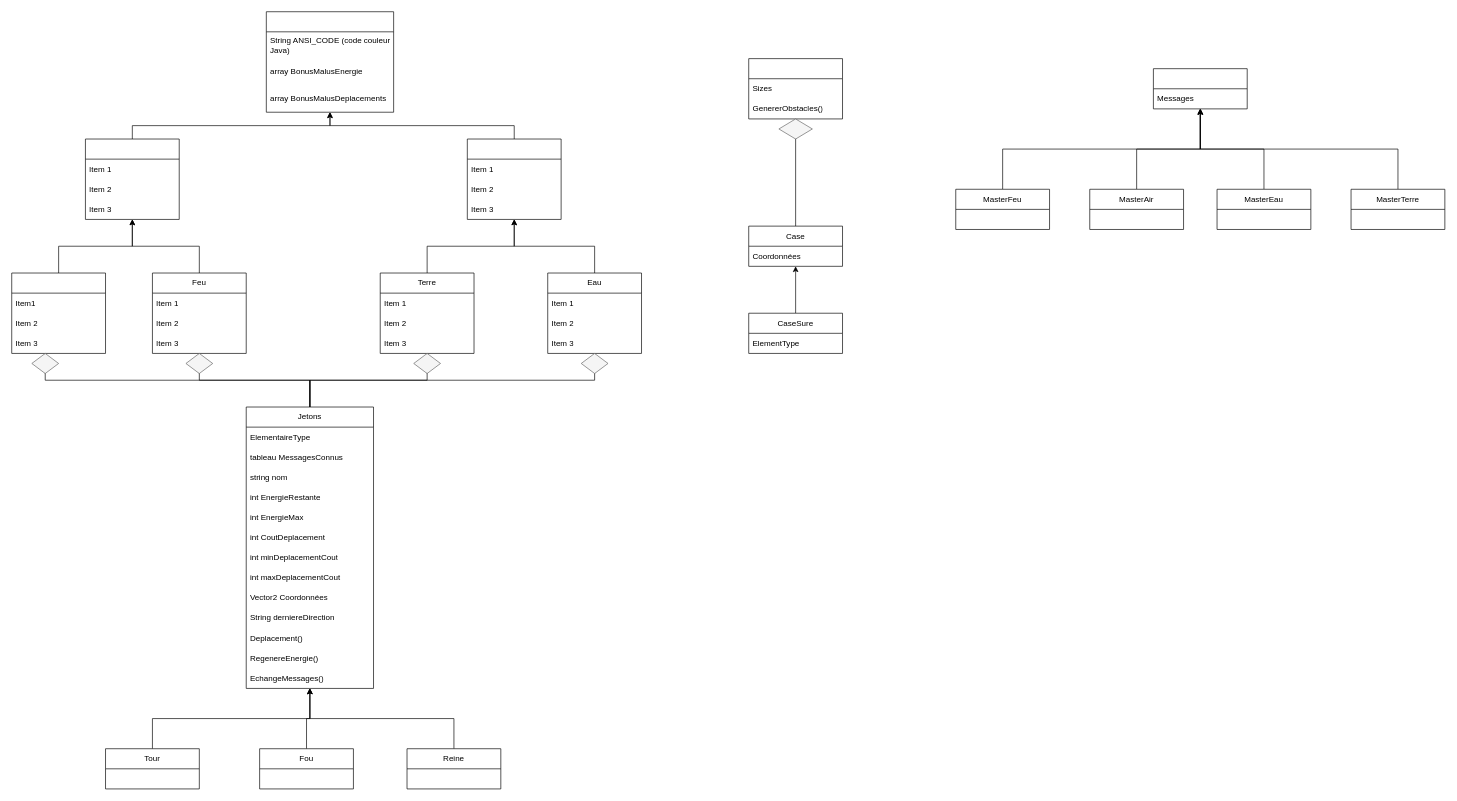
This 1457x801 diagram has some shape labels left out. The box of each missing label's shape, as (x1, y1, x2, y2) in pixels:
Air: (11, 272, 106, 353)
Carte: (748, 58, 843, 119)
Elémentaire: (266, 11, 394, 112)
Hydraterre: (467, 138, 561, 219)
Master: (1153, 68, 1247, 109)
Venflamme: (85, 138, 179, 219)
